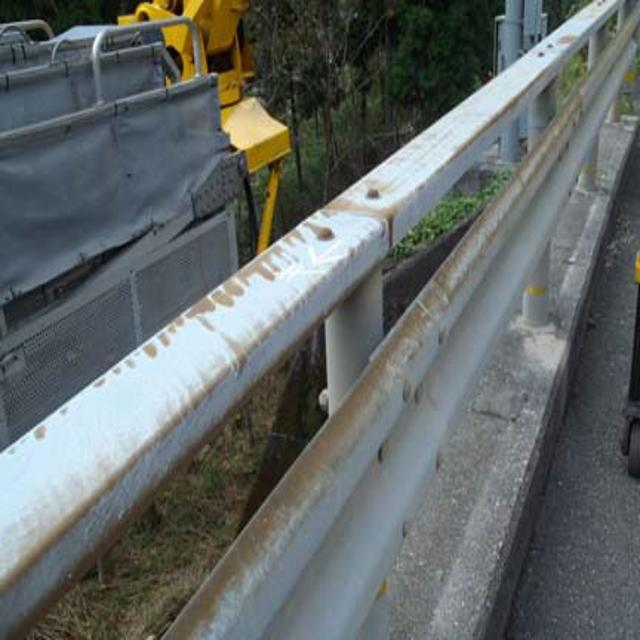corrosion: (130, 179, 401, 360)
